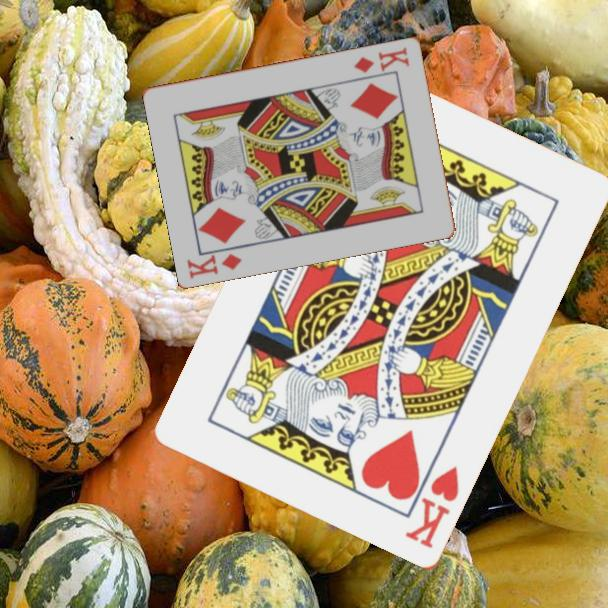d13: (351, 43, 412, 75), (184, 250, 245, 282)
h13: (401, 462, 463, 553)
